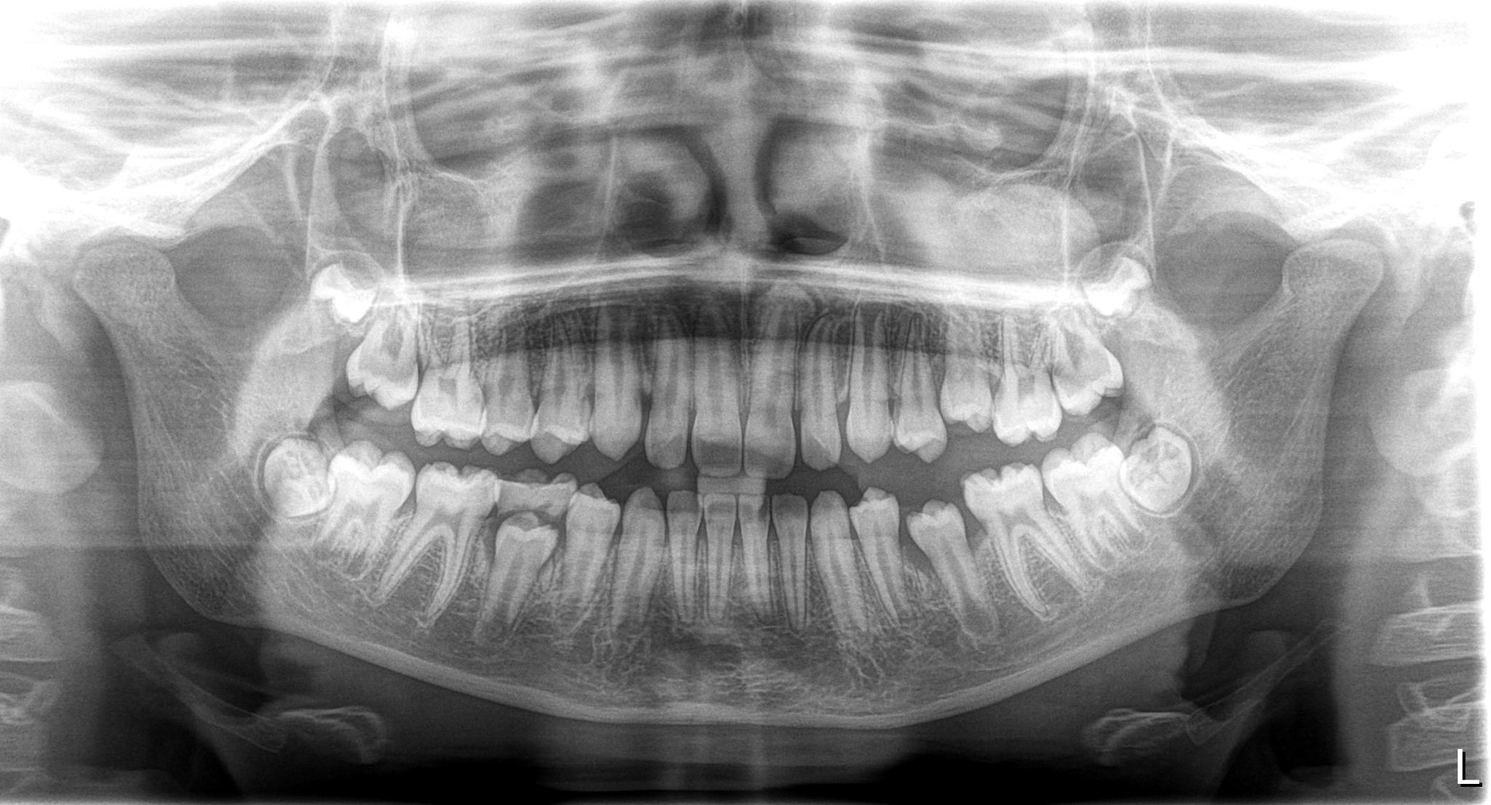Impacted Third Molar: (251, 435, 339, 524), (1076, 257, 1170, 326), (1125, 439, 1214, 510), (295, 264, 376, 332)
